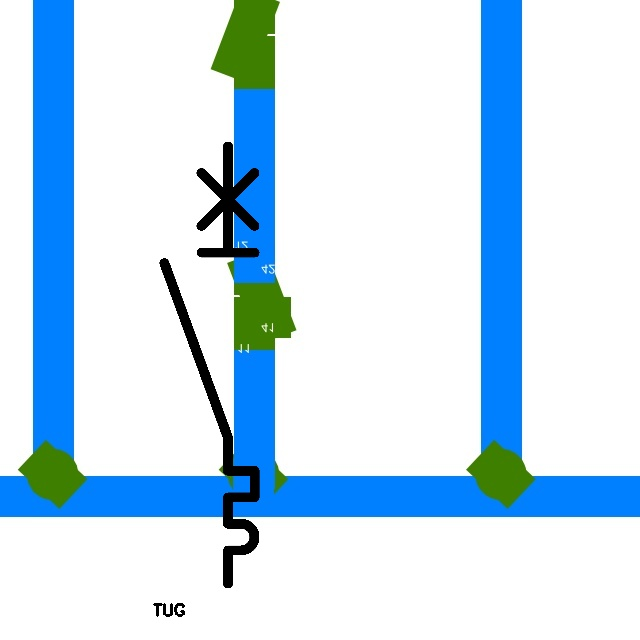interruptor_termomagnetico: (153, 135, 266, 595)
